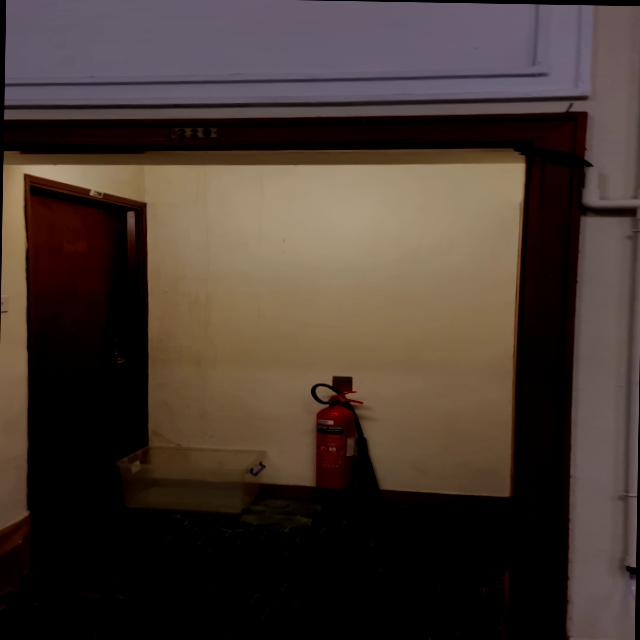room229: (168, 124, 222, 140)
